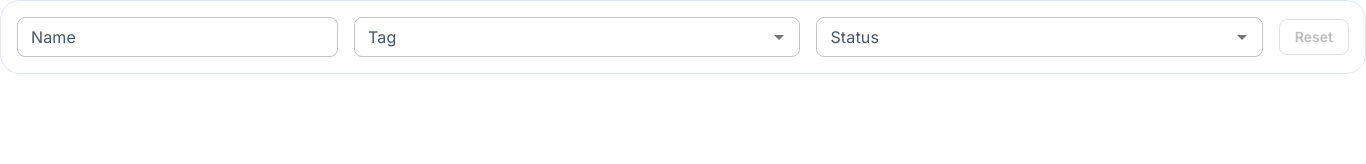
Test: TestRunFilters status and tag filters › resets every filter
Step 1. Click the dropdown labelled "Tag" → point(561, 37), box [360, 23, 761, 51]
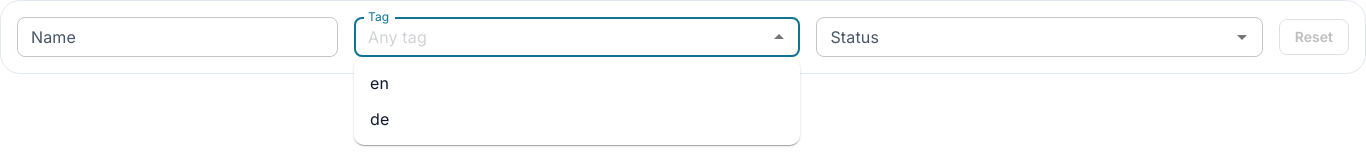
Step 2. Click the option "de" → point(380, 119), box [370, 109, 389, 129]
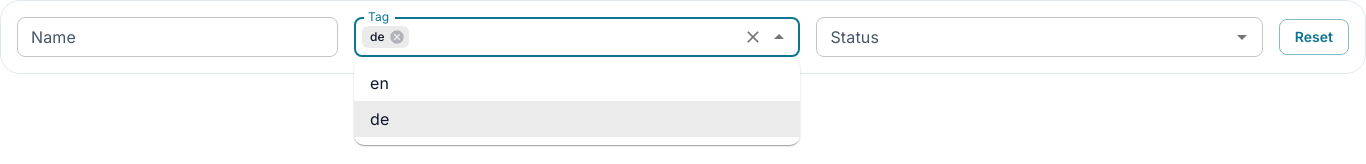
Result: the button "Reset" is enabled
Step 3. Click the button "Reset" → point(1314, 37), box [1279, 19, 1349, 55]
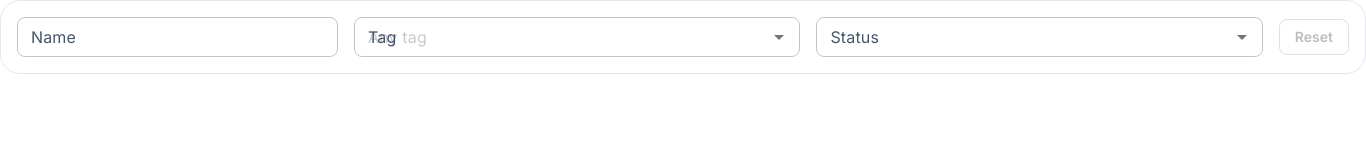
Result: the button "Reset" is disabled at [1279, 19, 1349, 55]
